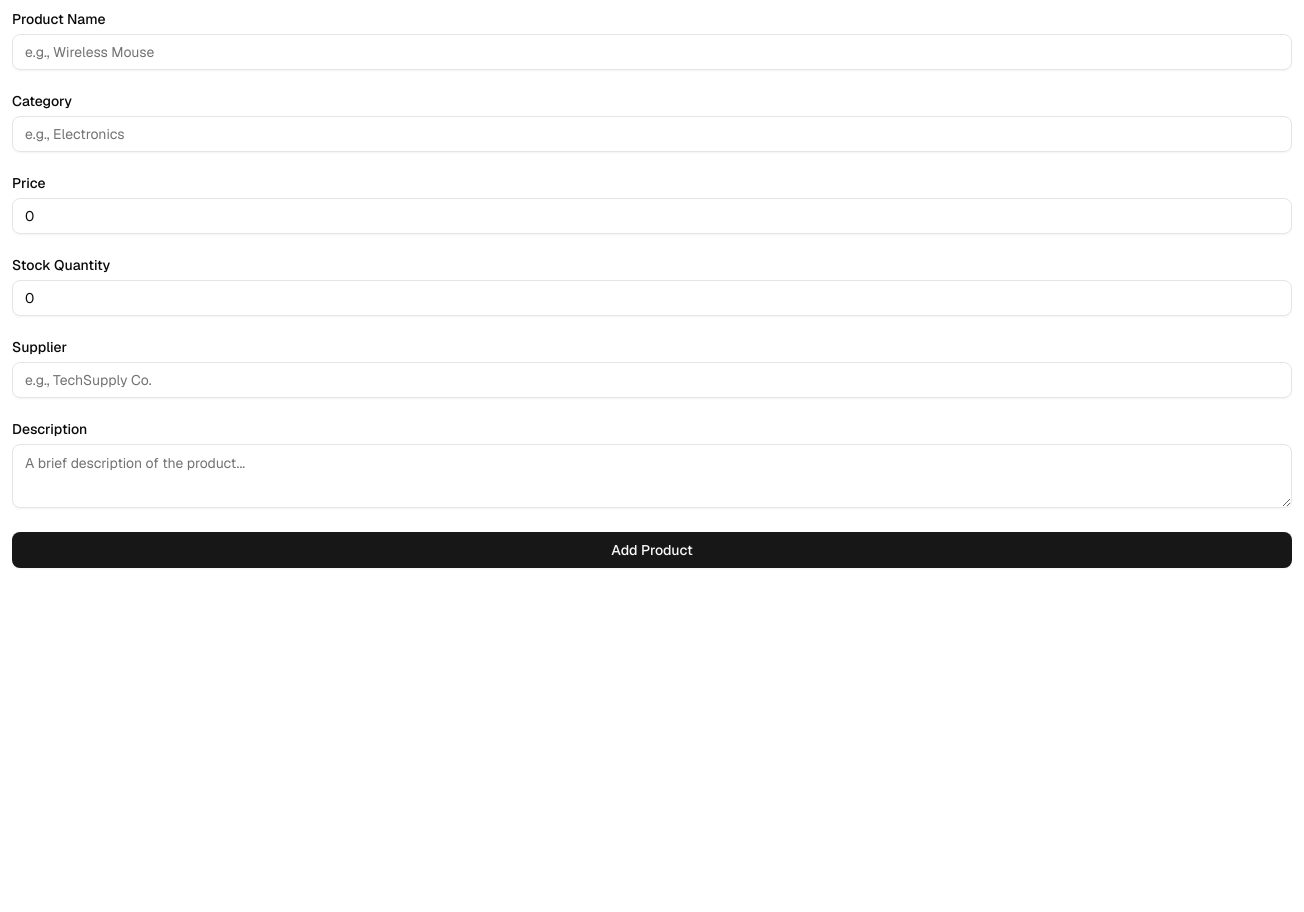
Test case: ProductForm › shows validation error for required fields if submitted empty
Click the button "Add Product": (652, 550) x1=12 y1=532 x2=1292 y2=568
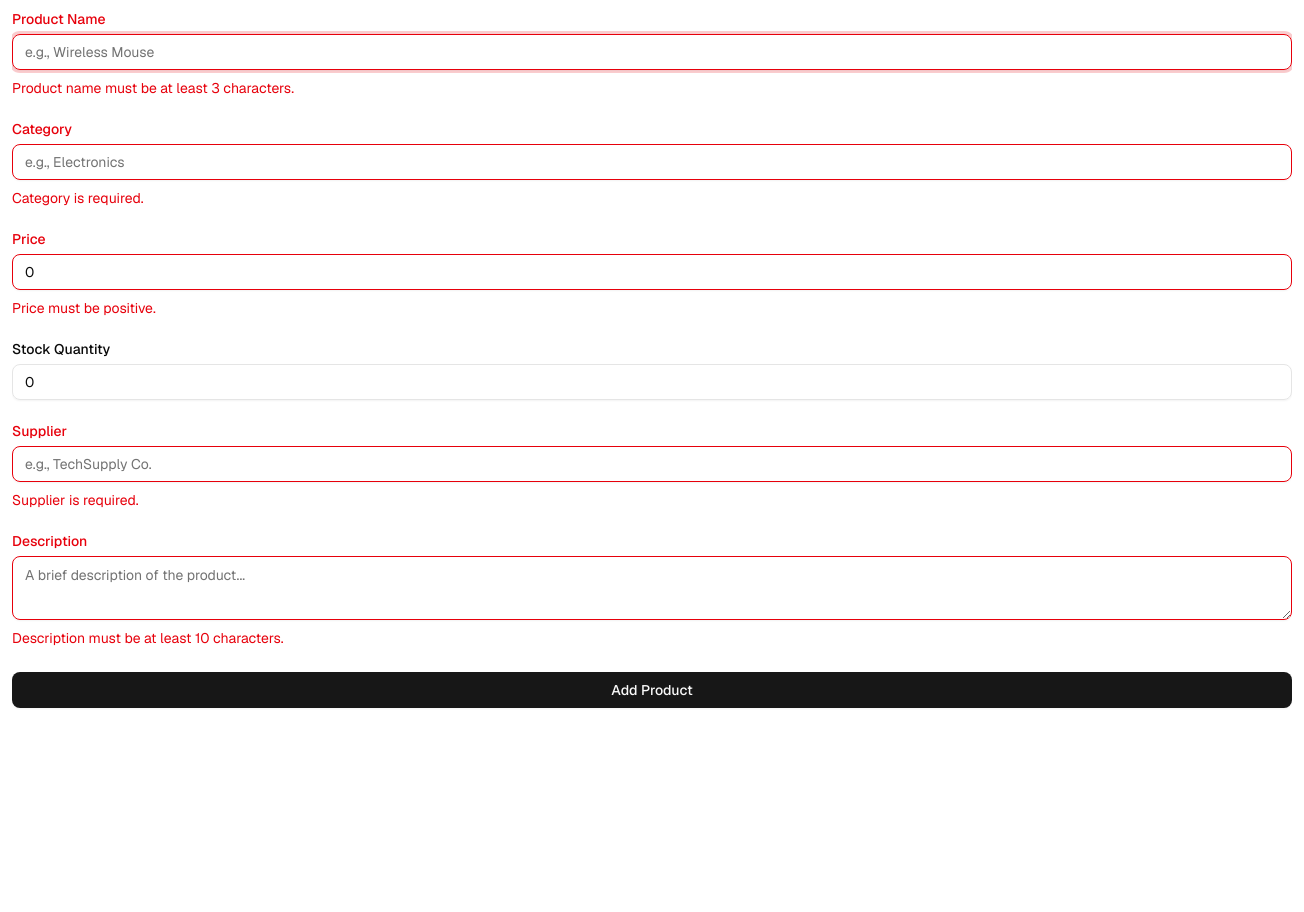
Expected: the text "Product name must be at least 3 characters." is shown, x1=12 y1=79 x2=294 y2=97
Expected: the text "Category is required." is shown, x1=12 y1=189 x2=144 y2=207
Expected: the text "Price must be positive." is shown, x1=12 y1=299 x2=156 y2=317
